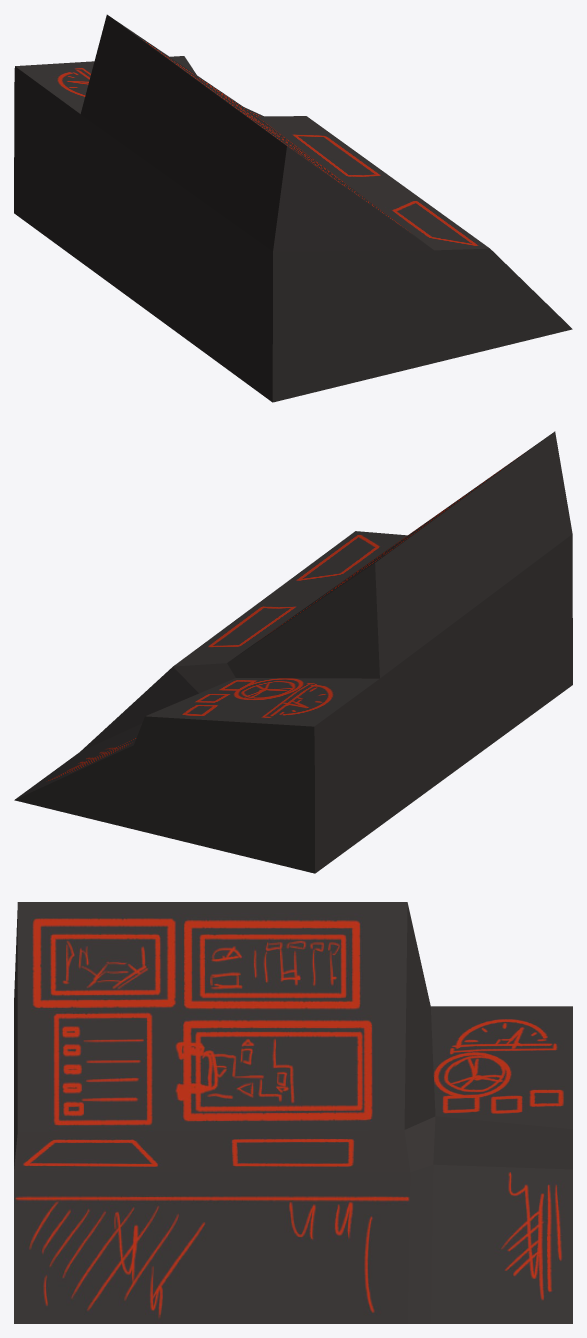
File: cockpit.glb
3 views of the same model, one above another, from view 1: azimuth 30°, elevation 25°; view 2: azimuth 150°, elevation 25°; view 3: azimuth 270°, elevation 25° (orthographic). The views are drawn at different scales.
Parts seen in each view (by area): view 1: Cube; view 2: Cube; view 3: Cube.
Boxes of the visible parts, x1,y1,x2,y2 form: Cube: (14, 14, 572, 402); Cube: (14, 431, 572, 873); Cube: (14, 902, 572, 1323).
Bounding box in the file's own units: 3 × 2.39 × 4.46.
Materials: 1 (1 with a texture image).
